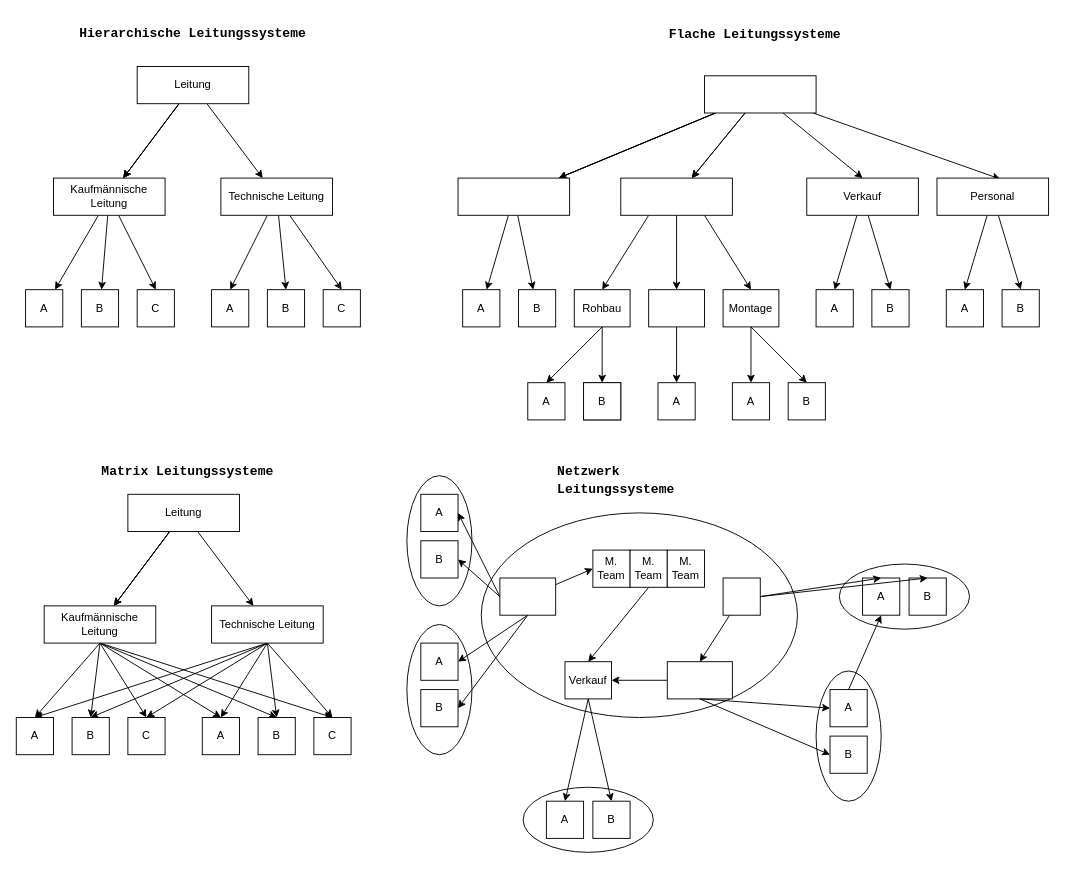
This 1065x869 diagram has some shape labels left out. The centre of each missing label's shape, as x and y in pixels:
CEO: pixel 741 596
Einkauf: pixel 513 196
Fertigung: pixel 676 196
Lackierer: pixel 676 308
Marketing: pixel 527 596
Operations: pixel 699 680
Unternehmensleitung: pixel 760 94
